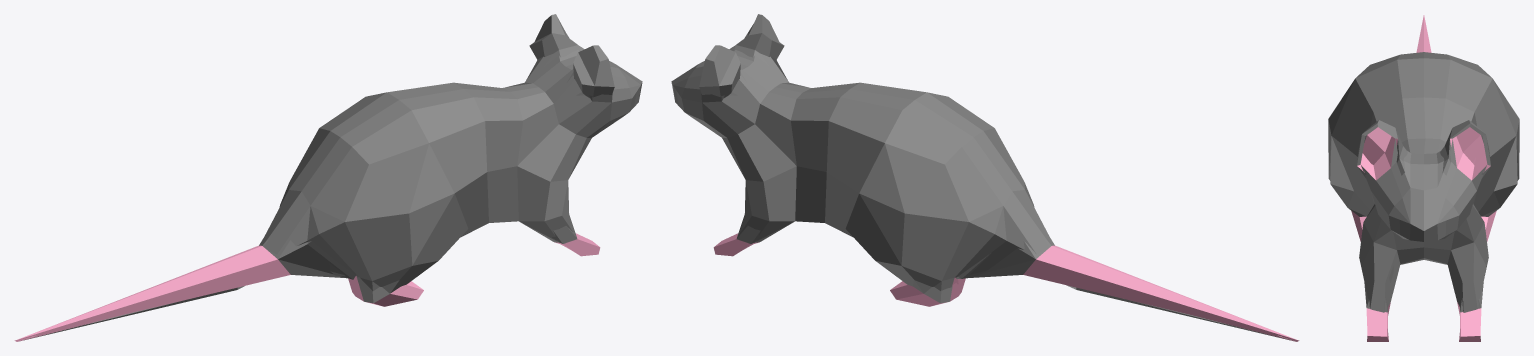
The model's file is test-rat.fbx.
3 views of the same model, side by side, from view 1: azimuth 30°, elevation 25°; view 2: azimuth 150°, elevation 25°; view 3: azimuth 270°, elevation 25° (orthographic). The views are drawn at different scales.
Parts seen in each view (by area): view 1: Cube; view 2: Cube; view 3: Cube.
Boxes of the visible parts, left/top/right/bottom form: Cube: left=14, top=14, right=642, bottom=341; Cube: left=671, top=14, right=1299, bottom=341; Cube: left=1328, top=15, right=1519, bottom=341.
Size of the model in its own units: 1161 by 362 by 283.
